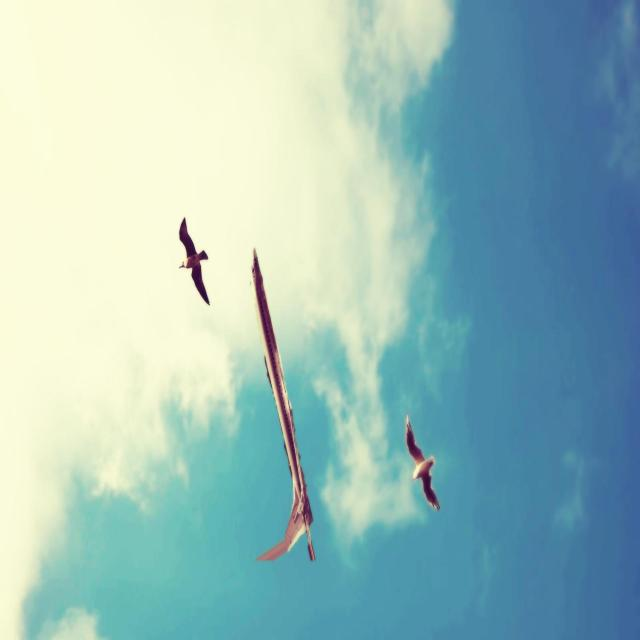airplane: (250, 246, 315, 563)
